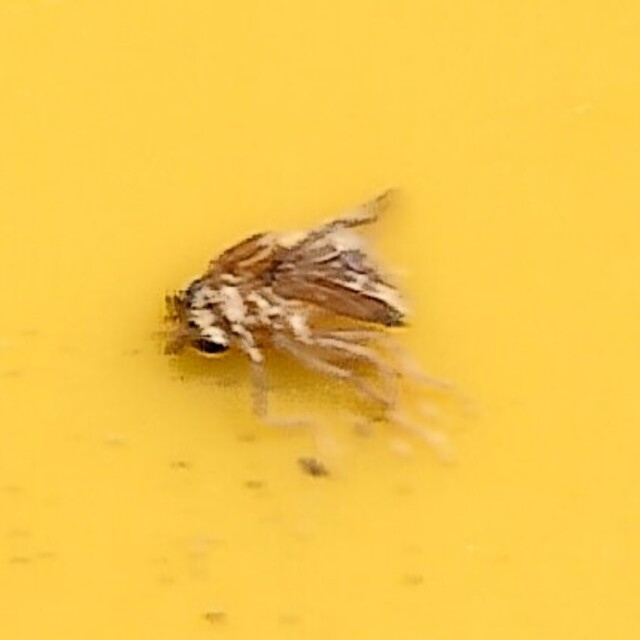Brachycera: (149, 179, 491, 461)
